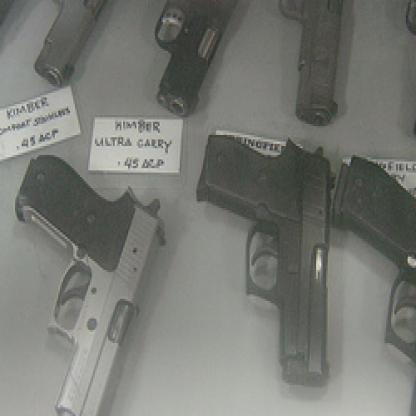gun: (10, 146, 173, 414), (193, 124, 339, 400), (331, 148, 414, 414), (140, 0, 248, 126), (274, 0, 354, 135), (29, 0, 107, 122), (397, 0, 415, 160)
